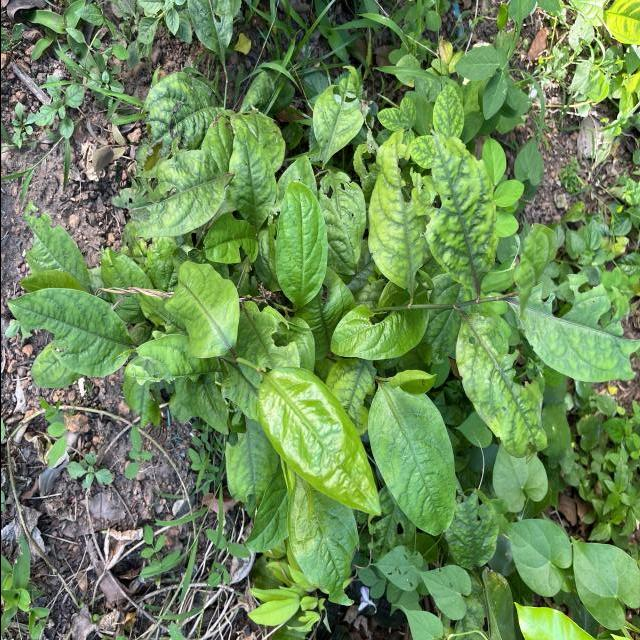Plumbago indica: (249, 364, 384, 524), (366, 366, 462, 540), (452, 297, 544, 456), (420, 133, 500, 302), (3, 280, 135, 379), (268, 180, 333, 310)
